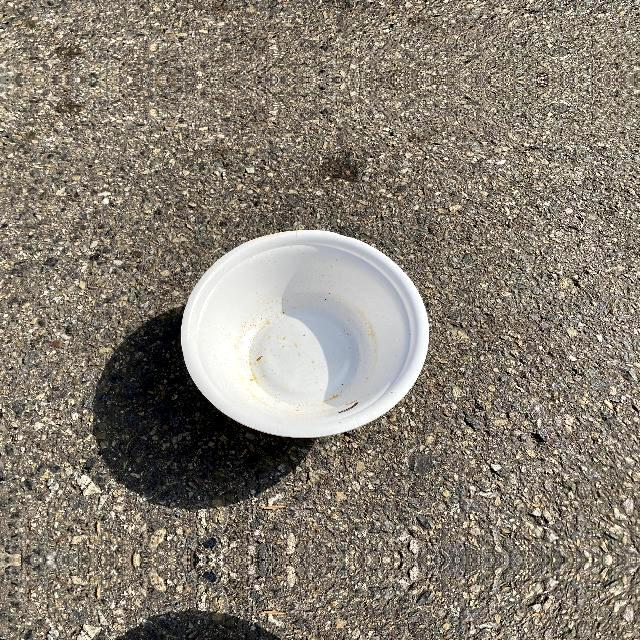Styrofoam: (179, 229, 429, 439), (181, 230, 429, 438)
